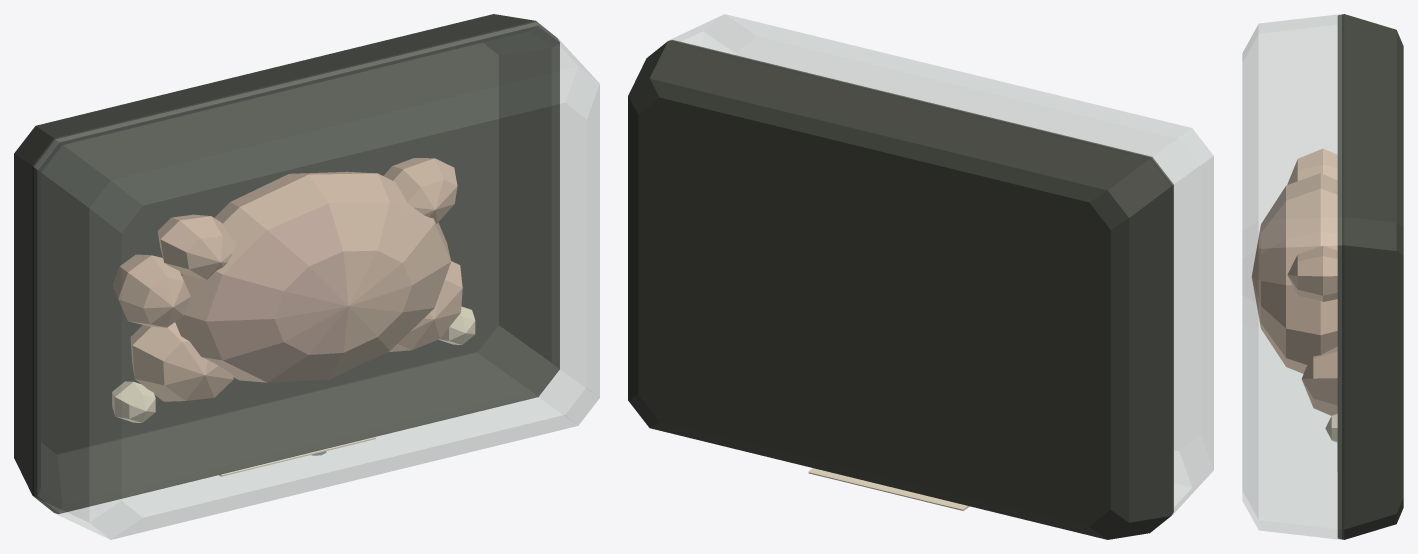
Rendered from turkey.glb.
3 views of the same model, side by side, from view 1: azimuth 30°, elevation 25°; view 2: azimuth 150°, elevation 25°; view 3: azimuth 270°, elevation 25° (orthographic). The views are drawn at different scales.
Parts seen in each view (by area): view 1: turkey; view 2: turkey; view 3: turkey.
Part boxes in pixels (x1,y1,x2,y2): turkey: [14, 14, 599, 539]; turkey: [628, 14, 1213, 539]; turkey: [1242, 14, 1403, 539].
Bounding box in the file's own units: 0.22 × 0.152 × 0.068.
